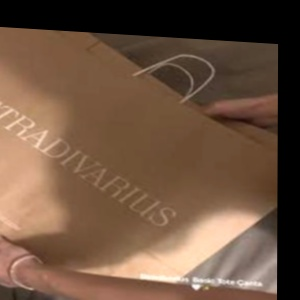stradivarius: (180, 188, 198, 245)
